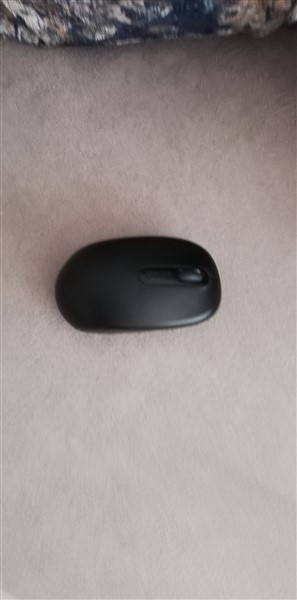mouse: (52, 235, 227, 338)
